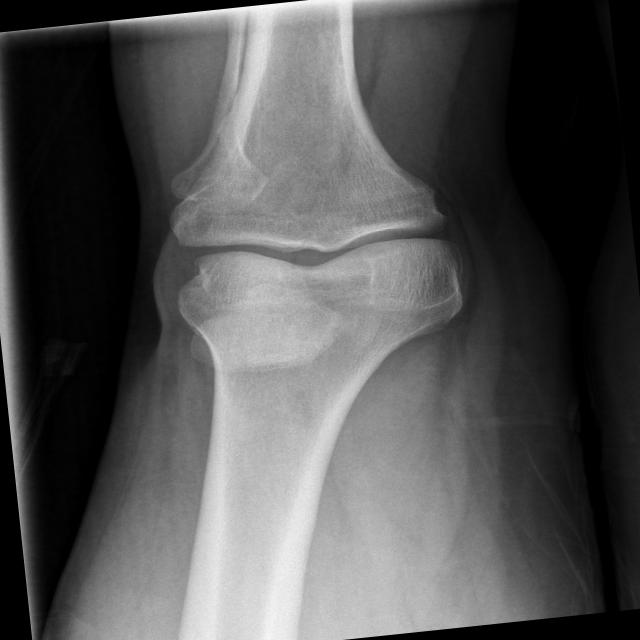Knee: (155, 156, 470, 370)
